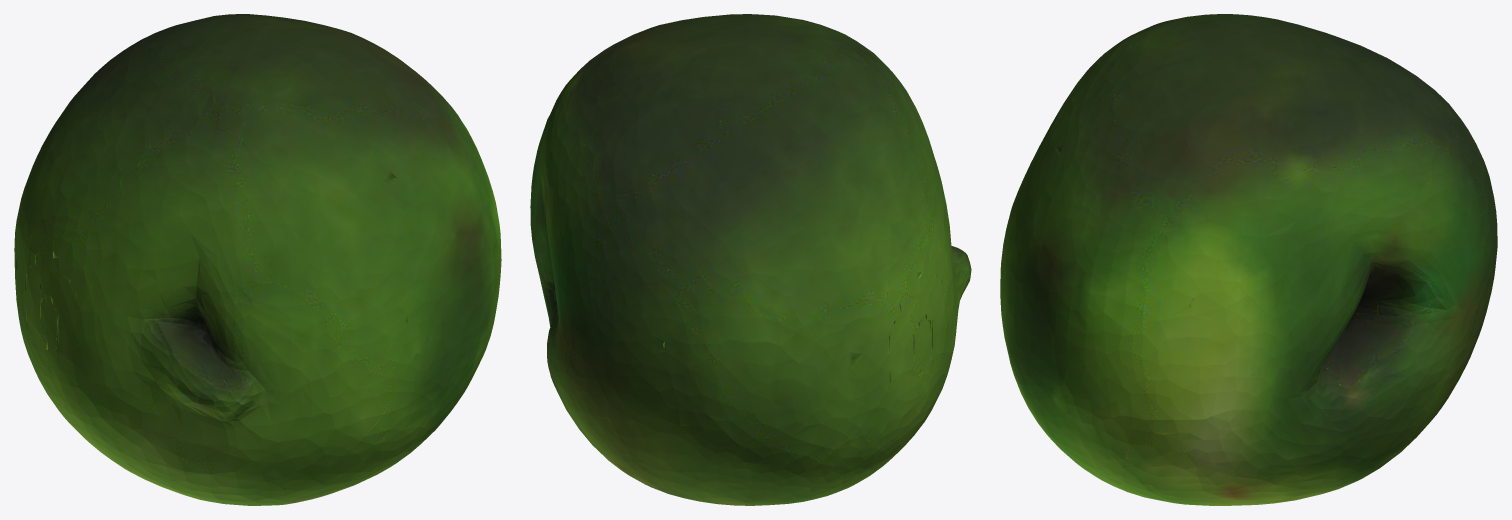
Rendered from green_apple_on_the_plate_000.glb.
3 views of the same model, side by side, from view 1: azimuth 30°, elevation 25°; view 2: azimuth 150°, elevation 25°; view 3: azimuth 270°, elevation 25° (orthographic). The views are drawn at different scales.
Parts seen in each view (by area): view 1: phase2_final_green_apple_on_the_plate_000.obj; view 2: phase2_final_green_apple_on_the_plate_000.obj; view 3: phase2_final_green_apple_on_the_plate_000.obj.
Part boxes in pixels (x1=…): phase2_final_green_apple_on_the_plate_000.obj: x1=14, y1=14, x2=501, y2=505; phase2_final_green_apple_on_the_plate_000.obj: x1=530, y1=14, x2=971, y2=505; phase2_final_green_apple_on_the_plate_000.obj: x1=1000, y1=14, x2=1497, y2=505.
Bounding box in the file's own units: 0.1721 × 0.1814 × 0.1818.
1 material, 1 textured.
